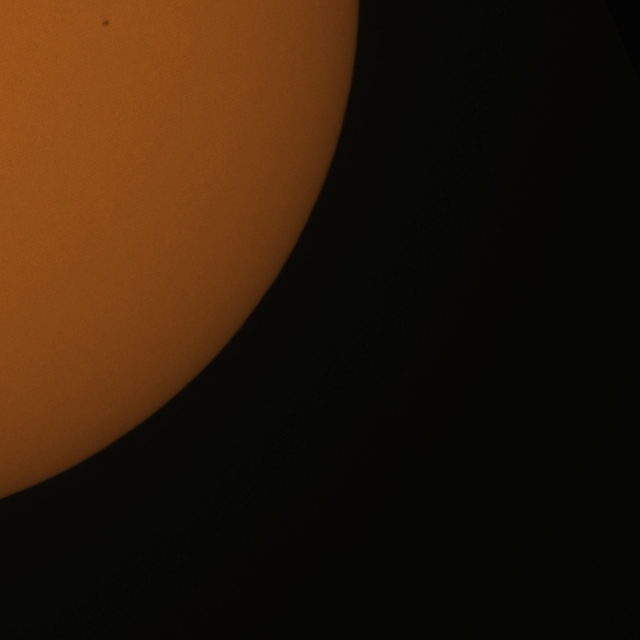sunspot: (101, 19, 110, 28)
